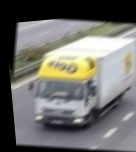truck: (15, 20, 136, 145)
